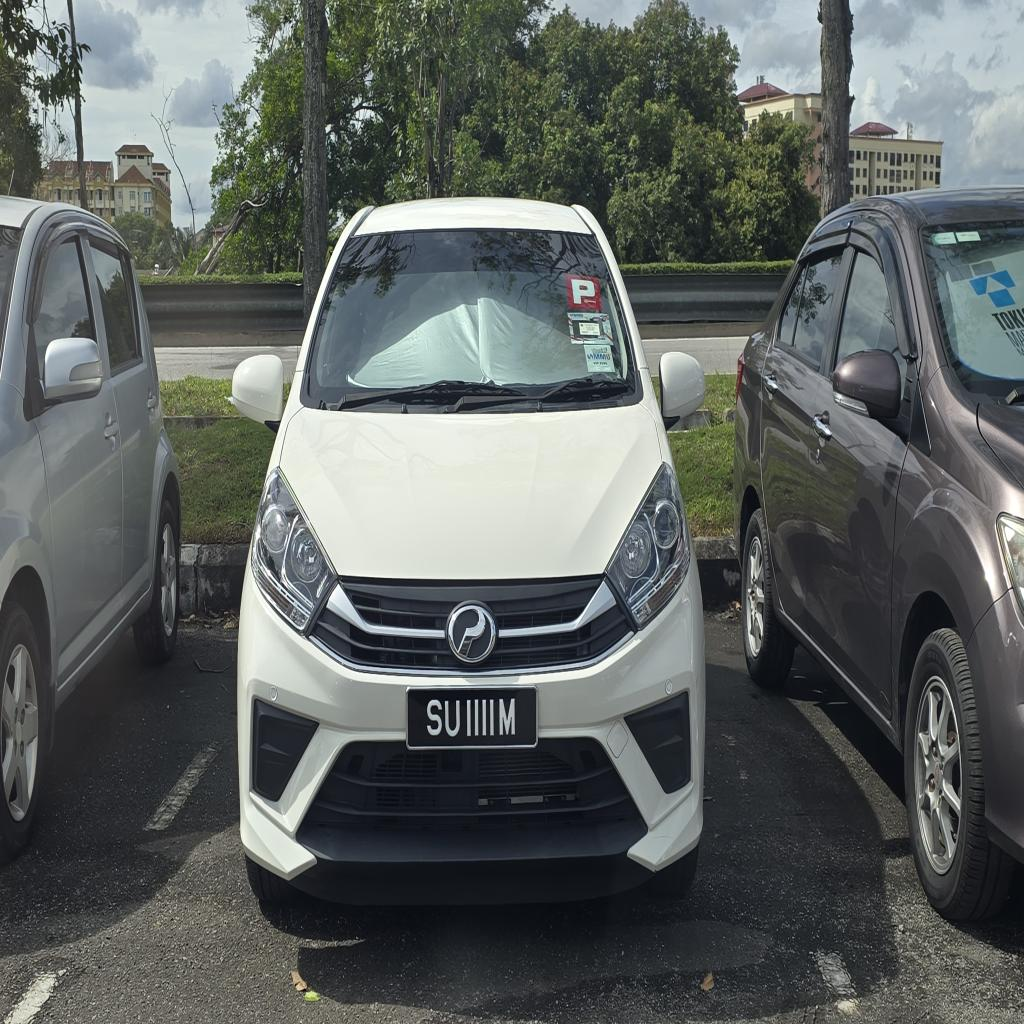car: (233, 199, 705, 902)
car plate: (407, 687, 537, 749)
